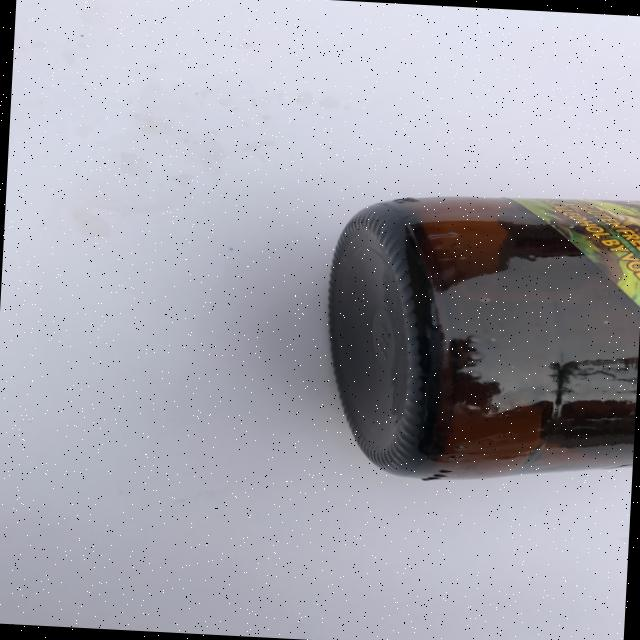glass: (317, 184, 640, 492)
